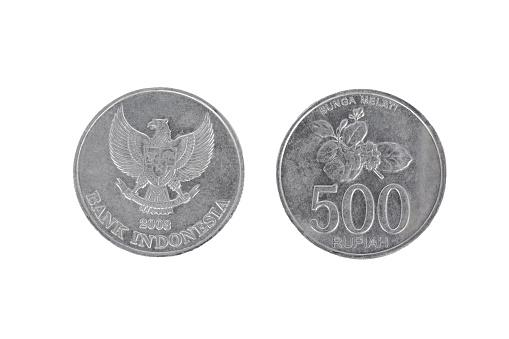coin_500_e2003: (71, 83, 248, 260), (273, 85, 449, 261)
